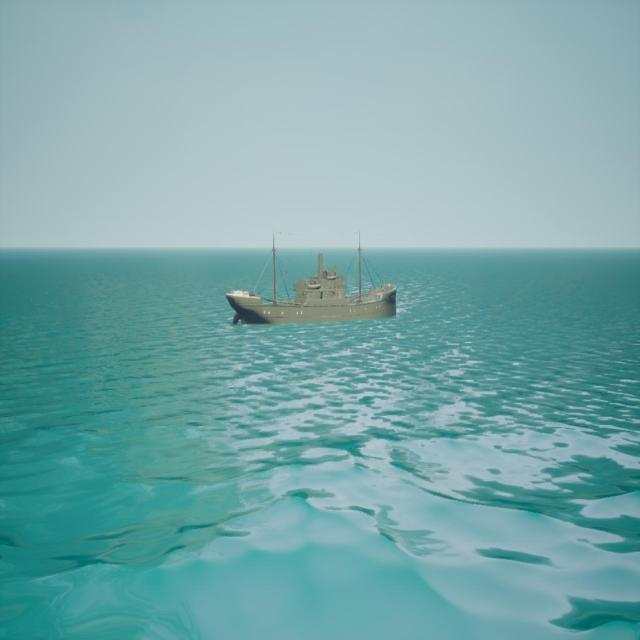fishing ship: (229, 238, 398, 325)
